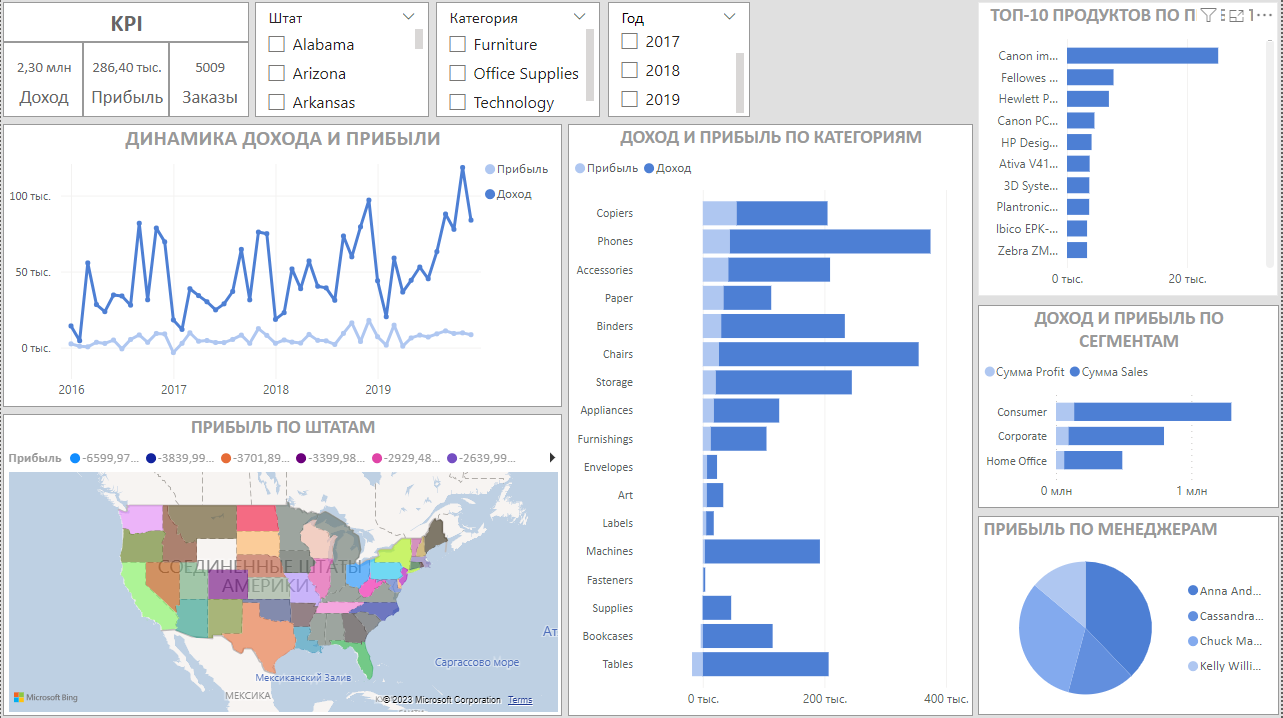

The page's visual inventory and layout, read from the dashboard file:
{"tool":"powerbi","page":{"name":"Страница 1","canvas":[1280,720],"ordinal":0},"visuals":[{"type":"card","fields":{"Values":["Заказы.Доход"]},"box":[2,43,80,75],"z":0},{"type":"lineChart","title":"ДИНАМИКА ДОХОДА И ПРИБЫЛИ","fields":{"Y":["Заказы.Profit","Заказы.Sales"],"Category":["Заказы.Order Date.Изменение.Иерархия дат.Год","Заказы.Order Date.Изменение.Иерархия дат.Месяц"]},"box":[2,125,559,283],"z":1000},{"type":"barChart","title":"ДОХОД И ПРИБЫЛЬ ПО КАТЕГОРИЯМ","fields":{"Category":["Заказы.Sub-Category"],"Y":["Заказы.Profit","Заказы.Sales"]},"box":[567,125,405,592],"z":2000},{"type":"barChart","title":"ТОП-10 ПРОДУКТОВ ПО ПРИБЫЛИ","fields":{"Y":["Заказы.Profit"],"Category":["Заказы.Product Name"]},"box":[977,3,300,294],"z":3000},{"type":"barChart","title":"ДОХОД И ПРИБЫЛЬ ПО СЕГМЕНТАМ","fields":{"Category":["Заказы.Segment"],"Y":["Заказы.Profit","Заказы.Sales"]},"box":[977,306,301,203],"z":4000},{"type":"pieChart","title":"ПРИБЫЛЬ ПО МЕНЕДЖЕРАМ","fields":{"Y":["Заказы.Profit"],"Series":["Менеджеры.Person"]},"box":[977,517,301,199],"z":5000},{"type":"filledMap","title":"ПРИБЫЛЬ ПО ШТАТАМ","fields":{"Category":["Заказы.State"],"Series":["Заказы.Profit"]},"box":[2,415,559,302],"z":6000},{"type":"card","fields":{"Values":["Заказы.Прибыль"]},"box":[82,43,86,75],"z":7000},{"type":"card","fields":{"Values":["Заказы.Заказы"]},"box":[168,43,80,75],"z":8000},{"type":"textbox","box":[2,3,246,40],"z":9000},{"type":"slicer","fields":{"Values":["Заказы.State"]},"box":[254,3,174,115],"z":10000},{"type":"slicer","fields":{"Values":["Заказы.Category"]},"box":[435,3,164,115],"z":11000},{"type":"slicer","fields":{"Values":["Заказы.Year"]},"box":[607,3,142,115],"z":12000}]}

Visuals, with their boxes in screenshot pixels (x1, y1, x2, y2), scaled from the page's 1280x720 canvas onto the 1283x718 screenshot:
card - Заказы.Доход: box=[2, 43, 82, 118]
"ДИНАМИКА ДОХОДА И ПРИБЫЛИ" lineChart: box=[2, 125, 562, 407]
"ДОХОД И ПРИБЫЛЬ ПО КАТЕГОРИЯМ" barChart: box=[568, 125, 974, 715]
"ТОП-10 ПРОДУКТОВ ПО ПРИБЫЛИ" barChart: box=[979, 3, 1280, 296]
"ДОХОД И ПРИБЫЛЬ ПО СЕГМЕНТАМ" barChart: box=[979, 305, 1281, 508]
"ПРИБЫЛЬ ПО МЕНЕДЖЕРАМ" pieChart: box=[979, 516, 1281, 714]
"ПРИБЫЛЬ ПО ШТАТАМ" filledMap: box=[2, 414, 562, 715]
card - Заказы.Прибыль: box=[82, 43, 168, 118]
card - Заказы.Заказы: box=[168, 43, 249, 118]
textbox: box=[2, 3, 249, 43]
slicer - Заказы.State: box=[255, 3, 429, 118]
slicer - Заказы.Category: box=[436, 3, 600, 118]
slicer - Заказы.Year: box=[608, 3, 751, 118]
